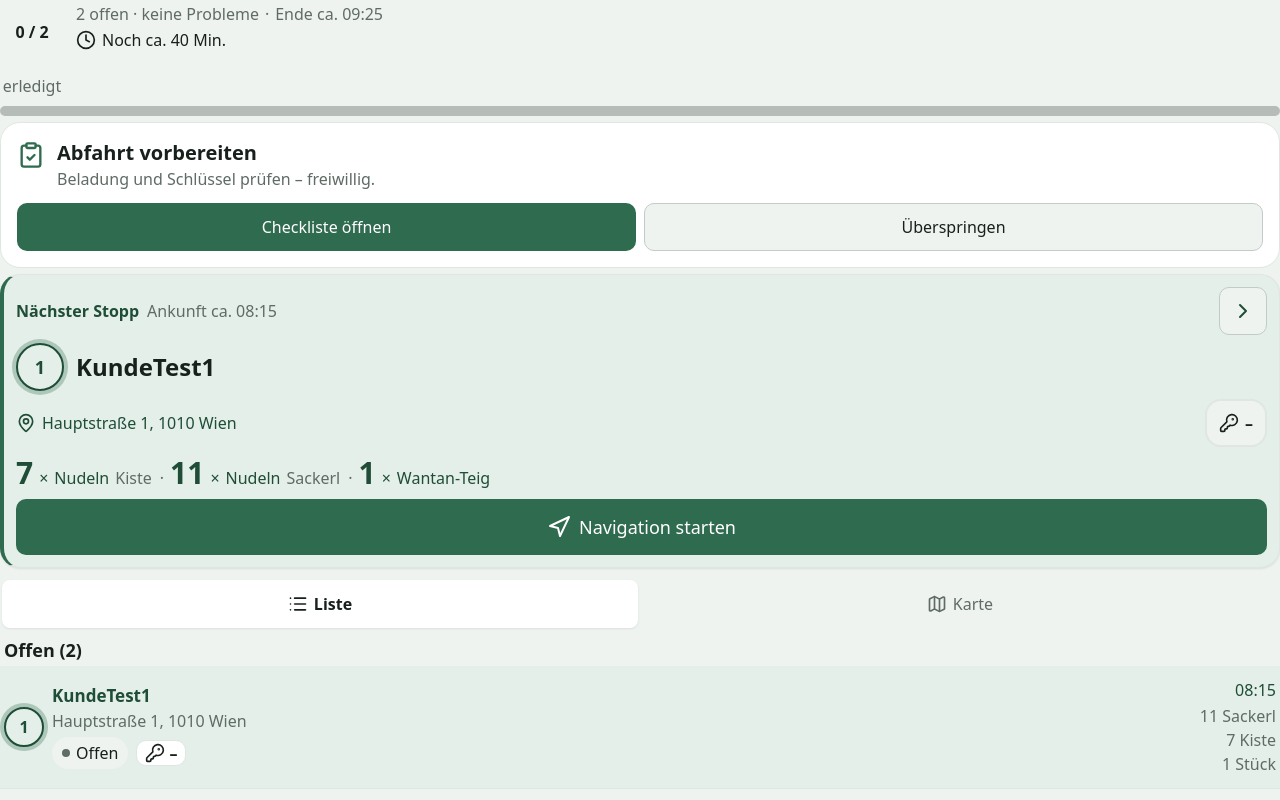
Test: departure checklist in de › 'Losfahren' records the departure and removes the card
Click the button with test id "departure-open" at (326, 227), box [17, 203, 636, 251]
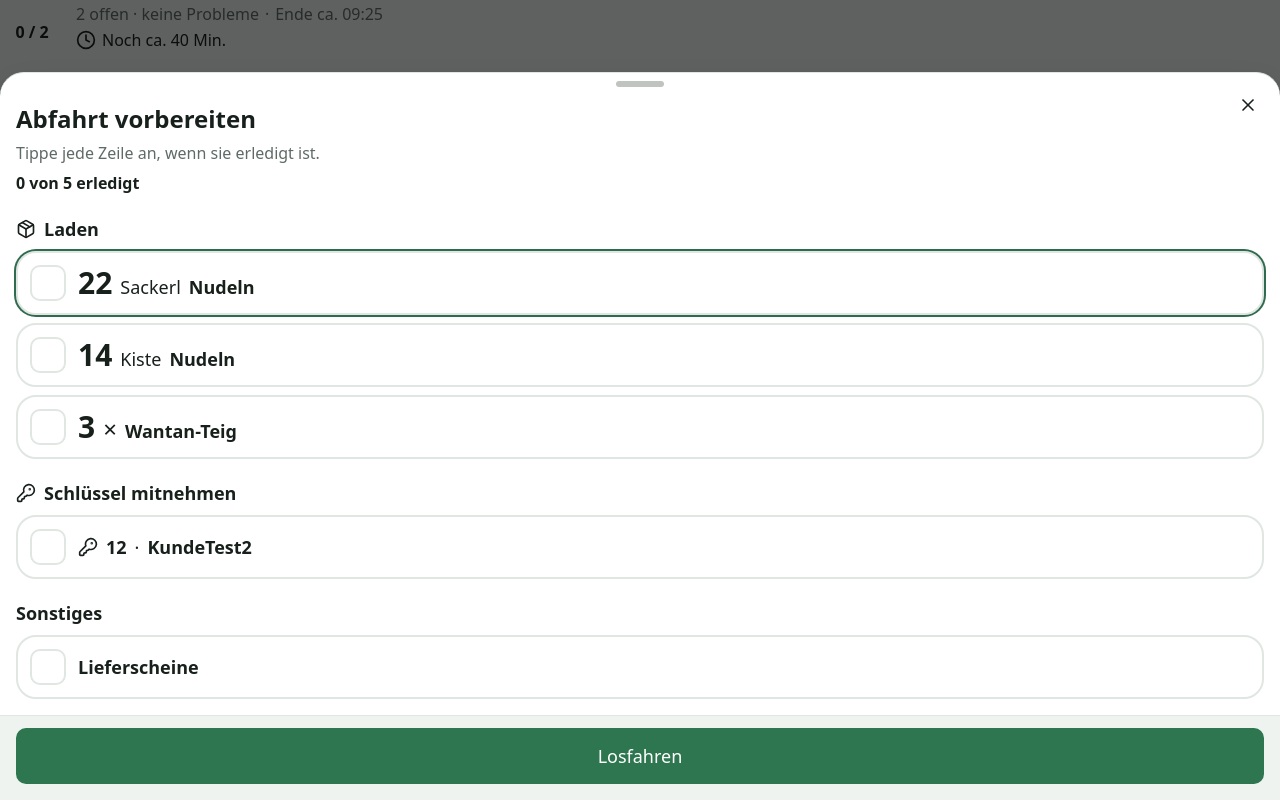
Click the button with test id "departure-go" at (640, 756), box [16, 728, 1264, 784]
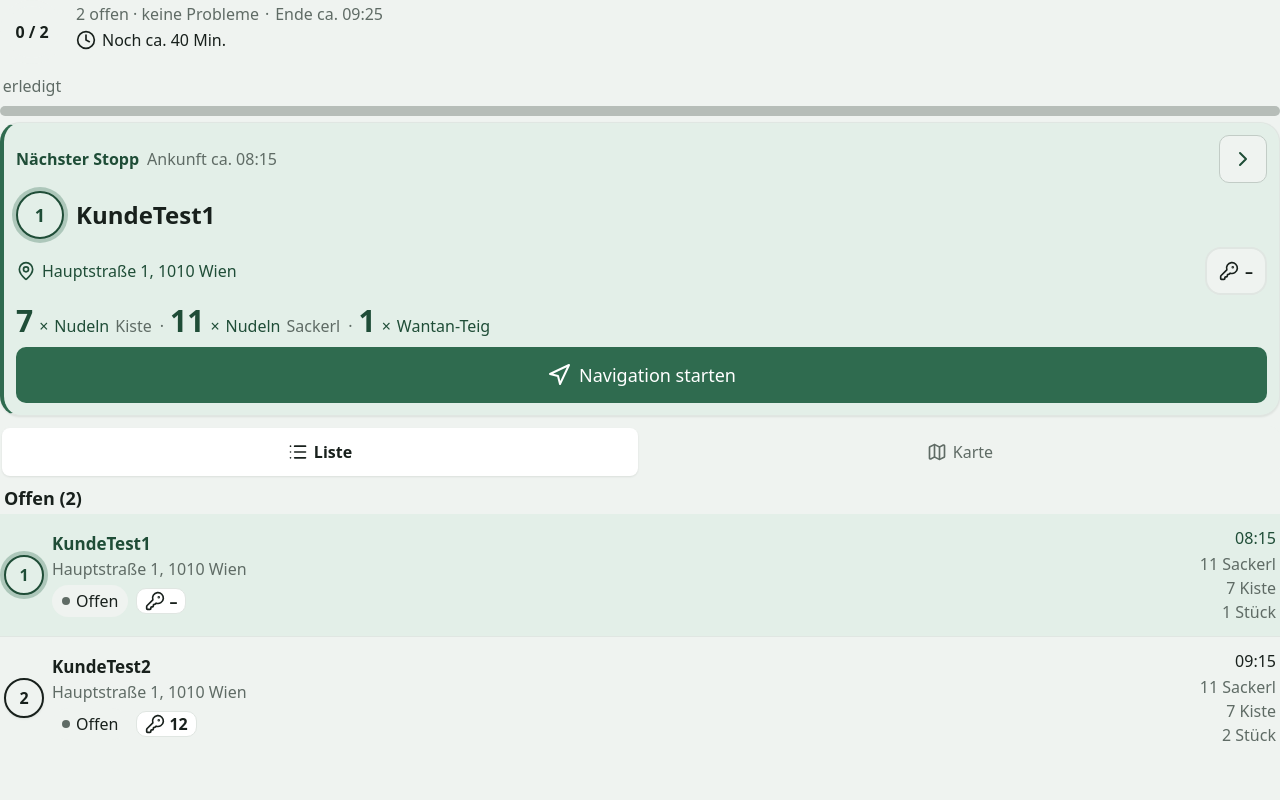
Expected: the dialog with test id "departure-sheet" is gone
Expected: the element with test id "departure-card" is gone
